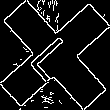L_NE: (26, 27, 84, 83)
